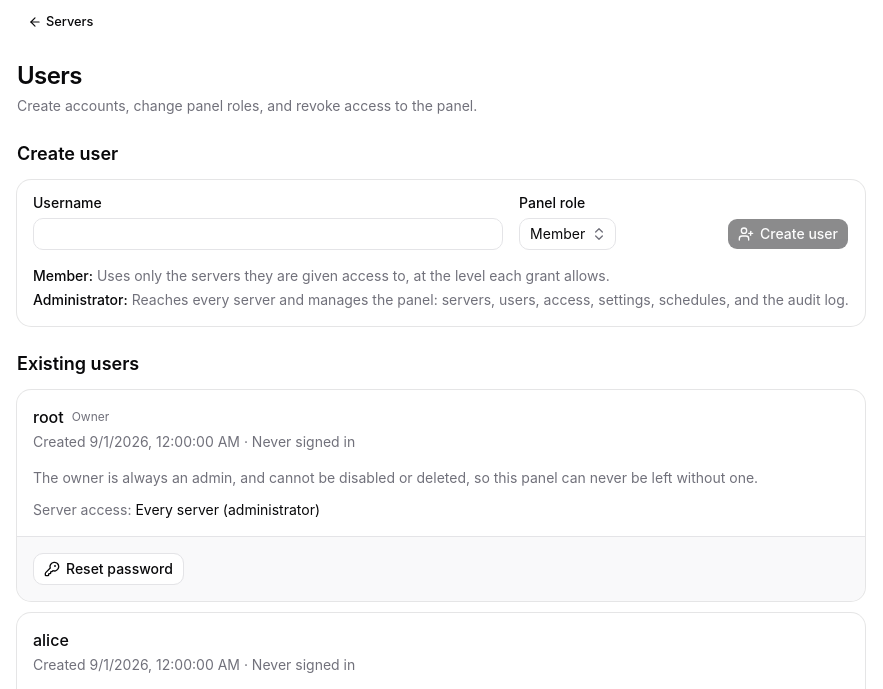
Test: after creating a user › says there is nothing to give access to when no server exists
expect the text "Server access:" is shown: met, box [33,501,131,518]
Type "dave" into the field labelled "Username" at (268, 234), box [33,218,503,250]
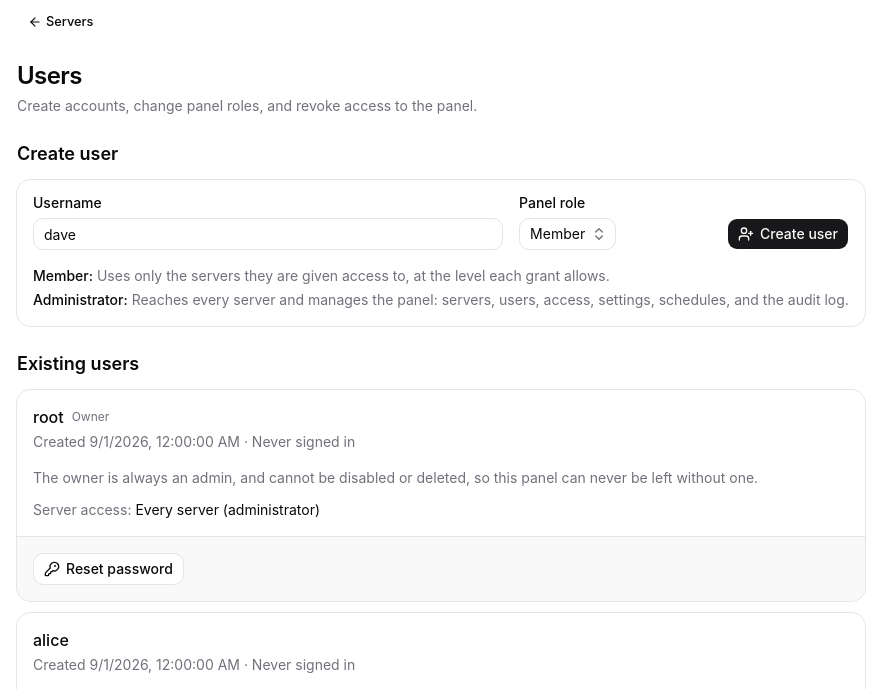
Click the button "Create user" at (788, 234), box [727,218,849,250]
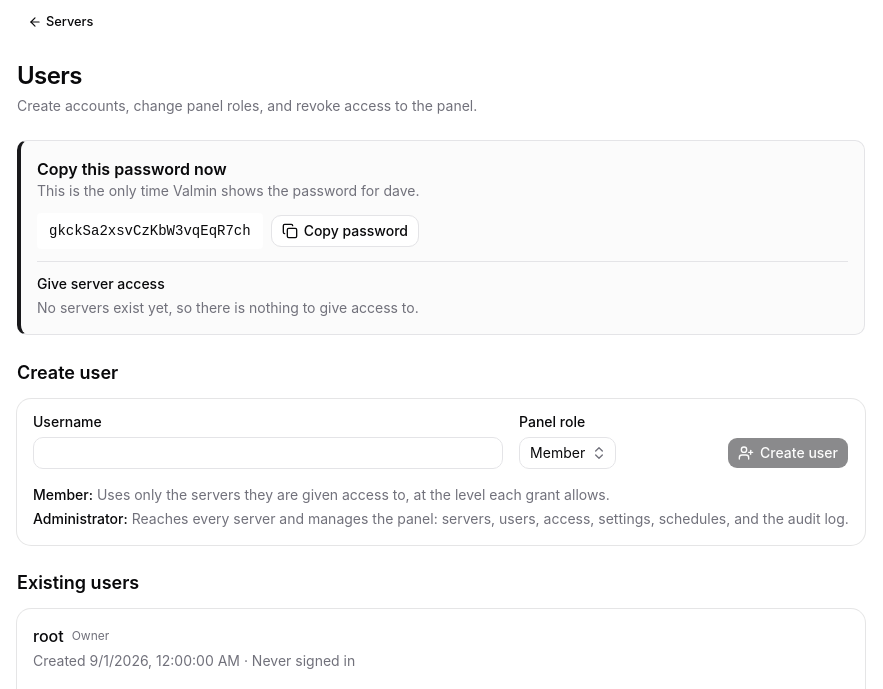
expect the text "Copy this password now" shows "No servers exist yet, so there is nothing to give access to.": met, box [37,299,419,316]
